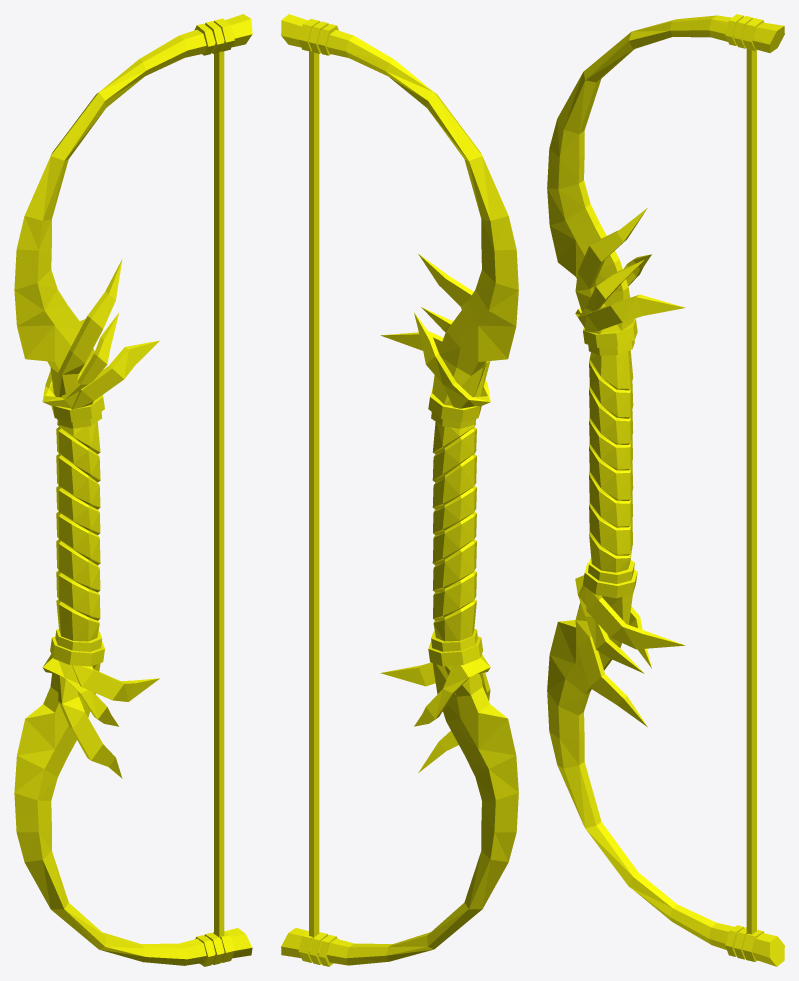
File: _bow_4.glb
3 renders of one model, left to right at view 1: azimuth 30°, elevation 25°; view 2: azimuth 150°, elevation 25°; view 3: azimuth 330°, elevation 25°, orthographic.
Visible parts, largest first — view 1: bow_4; view 2: bow_4; view 3: bow_4.
Part boxes in pixels (left/top/right/bottom): bow_4: left=14, top=14, right=252, bottom=966; bow_4: left=281, top=14, right=518, bottom=966; bow_4: left=547, top=14, right=784, bottom=966.
Size of the model in its own units: 8003 by 30688 by 2045.
